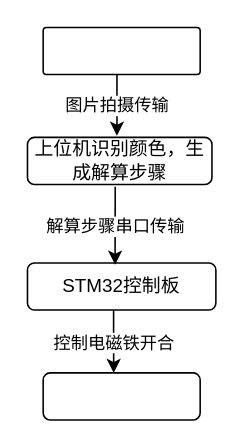
This 243x447 diagram has some shape labels left out. Here are the shapes that lost their labels. From the top down, the centre of each, then its label:
At point 121,50: "openmv摄像头".
At point 121,395: "电磁铁驱动的电机".
